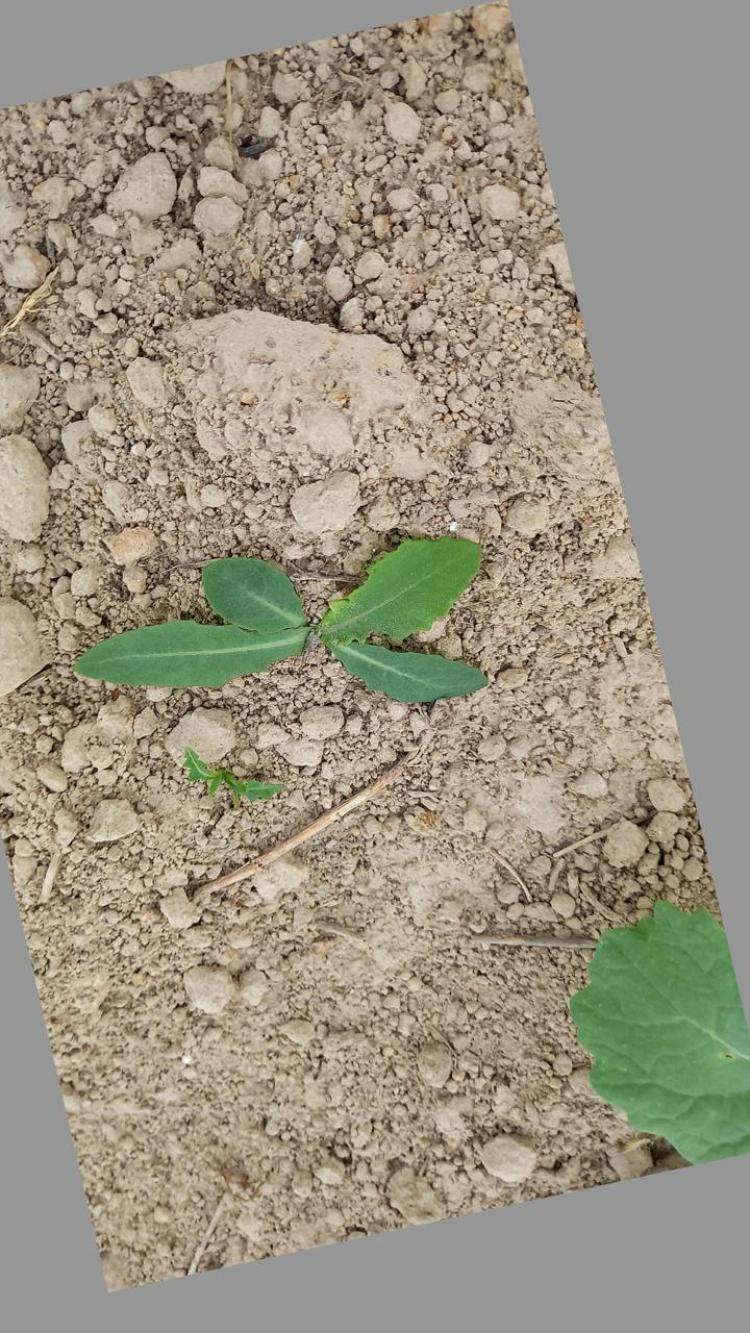bodyak: (79, 531, 494, 727)
